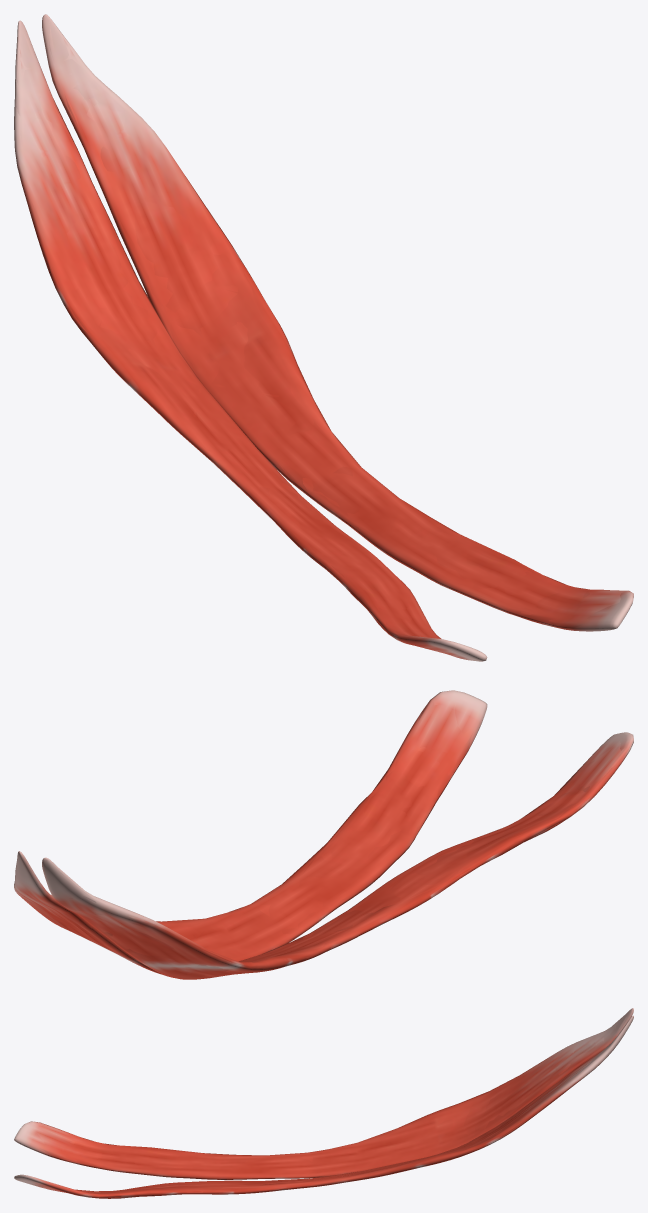
The model's file is Rectus Abdominis.fbx.
3 views of the same model, one above another, from view 1: azimuth 30°, elevation 25°; view 2: azimuth 150°, elevation 25°; view 3: azimuth 270°, elevation 25° (orthographic). The views are drawn at different scales.
Parts seen in each view (by area): view 1: Rectus Abdominis low, Rectus Abdominis; view 2: Rectus Abdominis low, Rectus Abdominis; view 3: Rectus Abdominis low, Rectus Abdominis.
Boxes of the visible parts, left/top/right/bottom form: Rectus Abdominis low: left=15, top=21, right=632, bottom=659; Rectus Abdominis: left=14, top=14, right=633, bottom=661; Rectus Abdominis low: left=15, top=691, right=632, bottom=978; Rectus Abdominis: left=14, top=690, right=633, bottom=979; Rectus Abdominis low: left=19, top=1014, right=629, bottom=1198; Rectus Abdominis: left=14, top=1008, right=633, bottom=1198.
Bounding box in the file's own units: 22 × 30.08 × 98.99.
